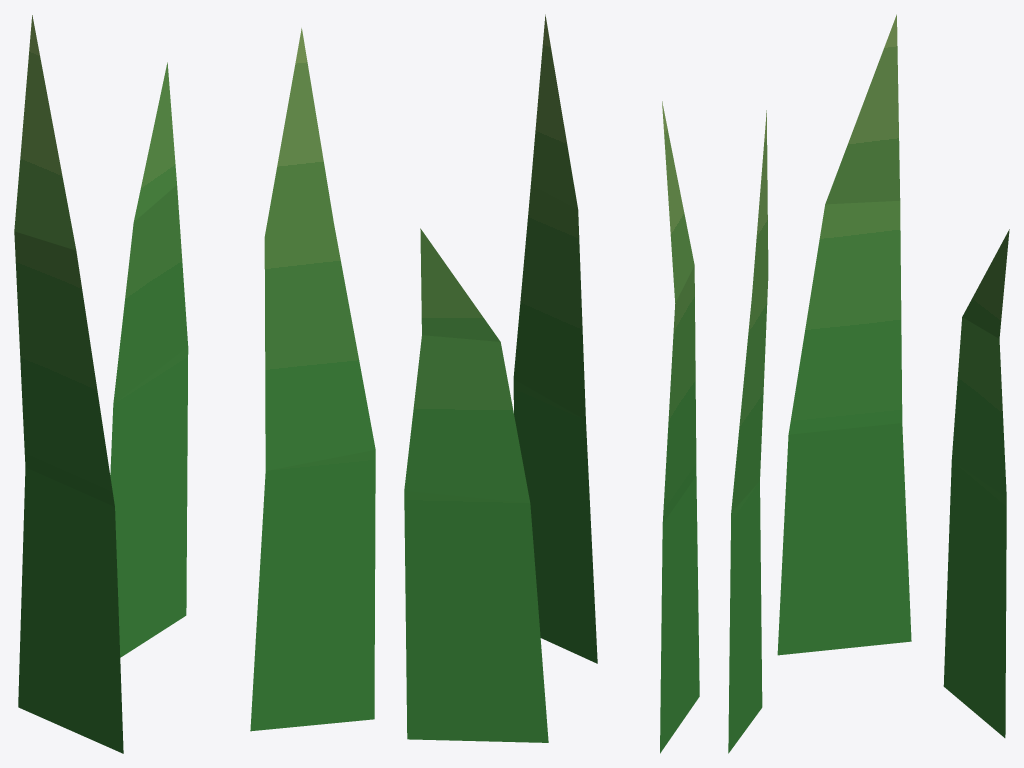
File: Grass_010.fbx
3 views of the same model, side by side, from view 1: azimuth 30°, elevation 25°; view 2: azimuth 150°, elevation 25°; view 3: azimuth 270°, elevation 25° (orthographic). The views are drawn at different scales.
Visible parts, largest first — view 1: Grass.010; view 2: Grass.010; view 3: Grass.010.
Boxes of the visible parts, x1,y1,x2,y2 form: Grass.010: [14, 15, 375, 753]; Grass.010: [404, 14, 699, 753]; Grass.010: [728, 14, 1009, 753].
Size of the model in its own units: 0.1953 by 0.4863 by 0.1967.
